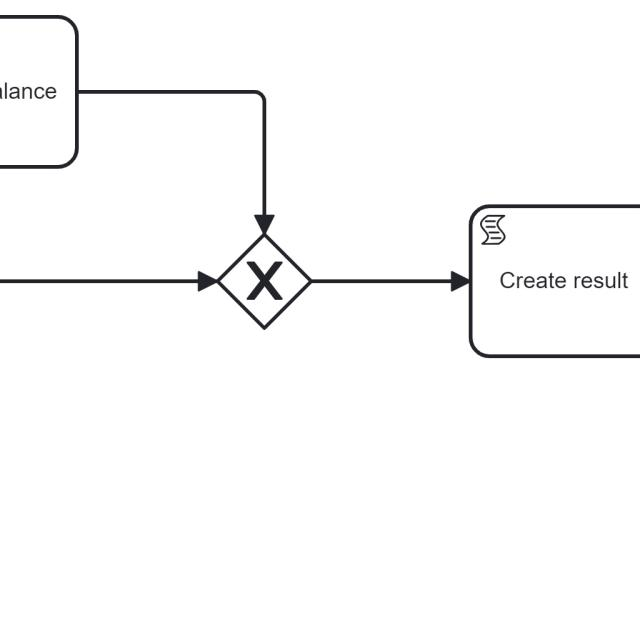arrow: (79, 85, 276, 234), (311, 267, 468, 302)
diamond: (215, 232, 314, 331)
